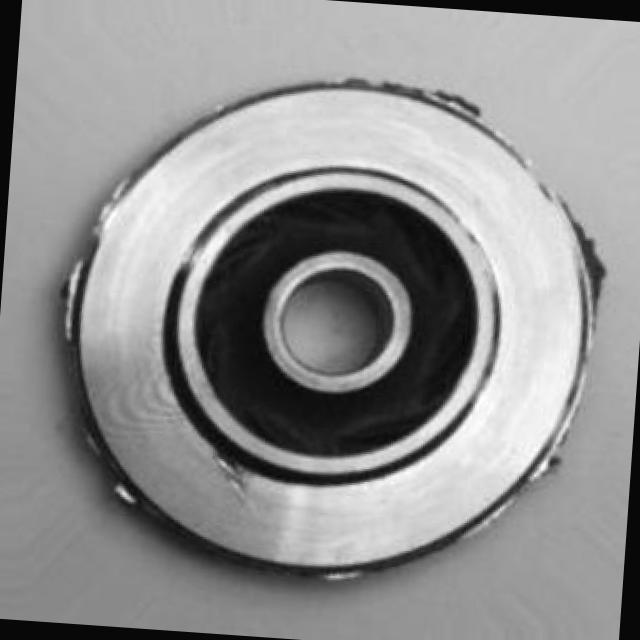Defect: (558, 203, 632, 307)
